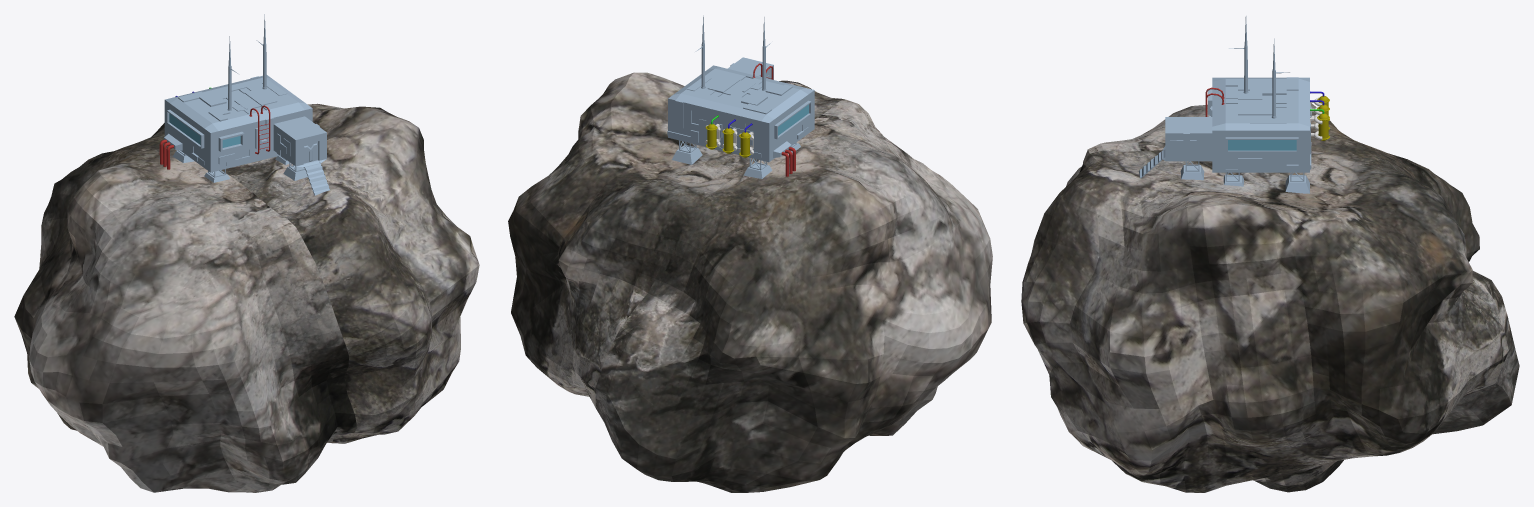
File: Asteroid.fbx
The picture shows the model from 3 angles, left to right: view 1: azimuth 30°, elevation 25°; view 2: azimuth 150°, elevation 25°; view 3: azimuth 270°, elevation 25°; orthographic projection. The views are drawn at different scales.
Visible parts, largest first — view 1: Asteroid, SpaceCafe; view 2: Asteroid, SpaceCafe; view 3: Asteroid, SpaceCafe, Windows.
Boxes of the visible parts, bbox=[...] form: Asteroid: bbox=[14, 103, 479, 492]; SpaceCafe: bbox=[164, 14, 329, 195]; Asteroid: bbox=[508, 72, 992, 492]; SpaceCafe: bbox=[667, 15, 814, 178]; Asteroid: bbox=[1021, 103, 1519, 492]; SpaceCafe: bbox=[1138, 16, 1311, 193]; Windows: bbox=[1228, 140, 1296, 150].
Bounding box in the file's own units: 2131 × 2172 × 2150.
